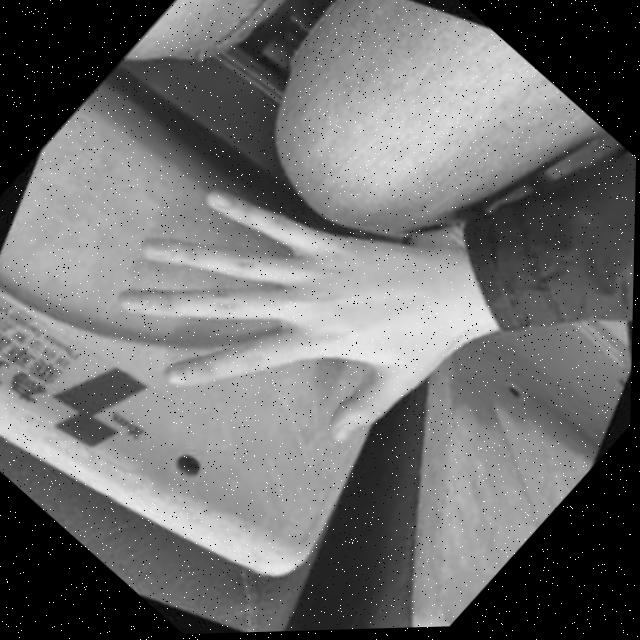hand: (77, 91, 506, 520)
